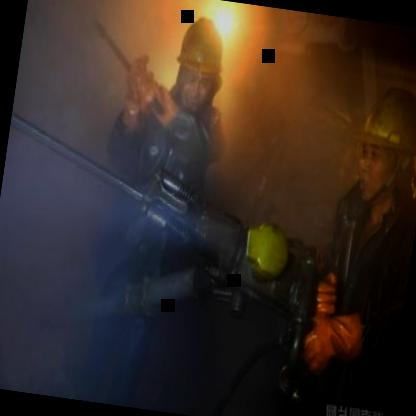helmet: (348, 82, 416, 208), (166, 3, 236, 123)
